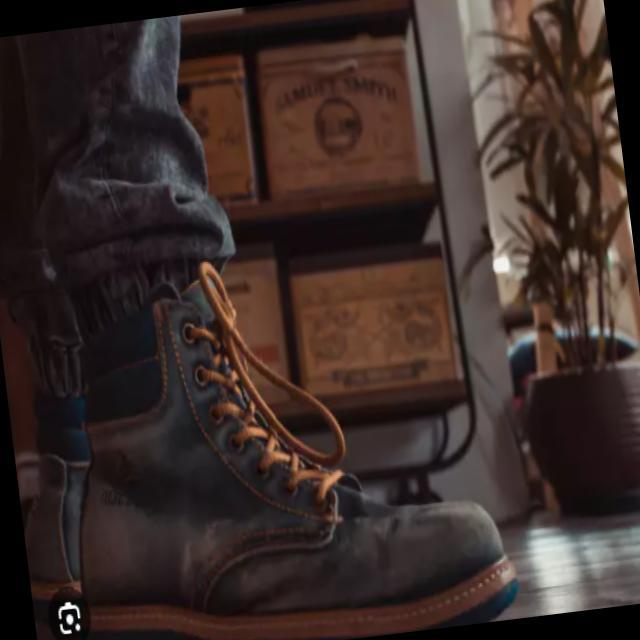boots: (0, 190, 525, 640)
